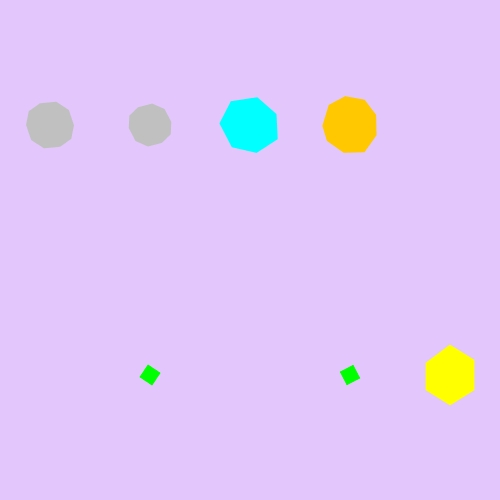decagon: (21, 99, 79, 152), (124, 101, 177, 149)
heptagon: (218, 94, 283, 156)
hexagon: (417, 348, 484, 403)
nonagon: (318, 94, 383, 156)
quadrilateral: (135, 360, 165, 390), (335, 360, 365, 390)
